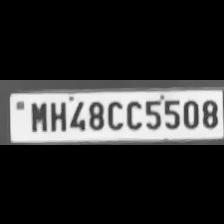0: (181, 96, 199, 128)
4: (68, 97, 86, 130)
5: (142, 96, 160, 130), (162, 96, 180, 128)
8: (198, 96, 220, 128), (86, 97, 104, 130)
C: (122, 96, 142, 130), (105, 96, 123, 130)
H: (48, 97, 66, 130)
M: (27, 98, 47, 132)
